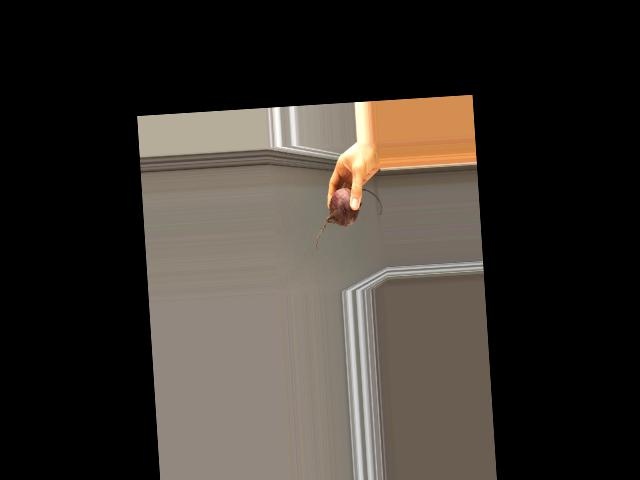beet: (313, 186, 385, 252)
